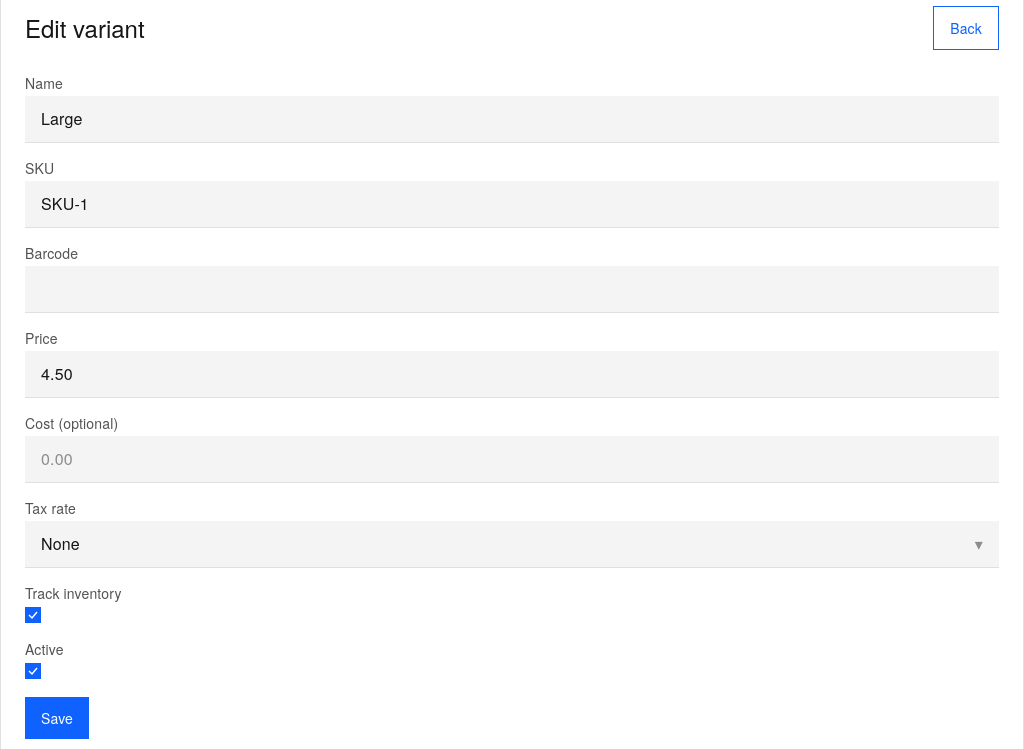
Scenario: VariantEditor › rejects a blank price instead of silently saving as $0
Clear the field labelled "Price" at point(512, 375), box left=25, top=351, right=999, bottom=398
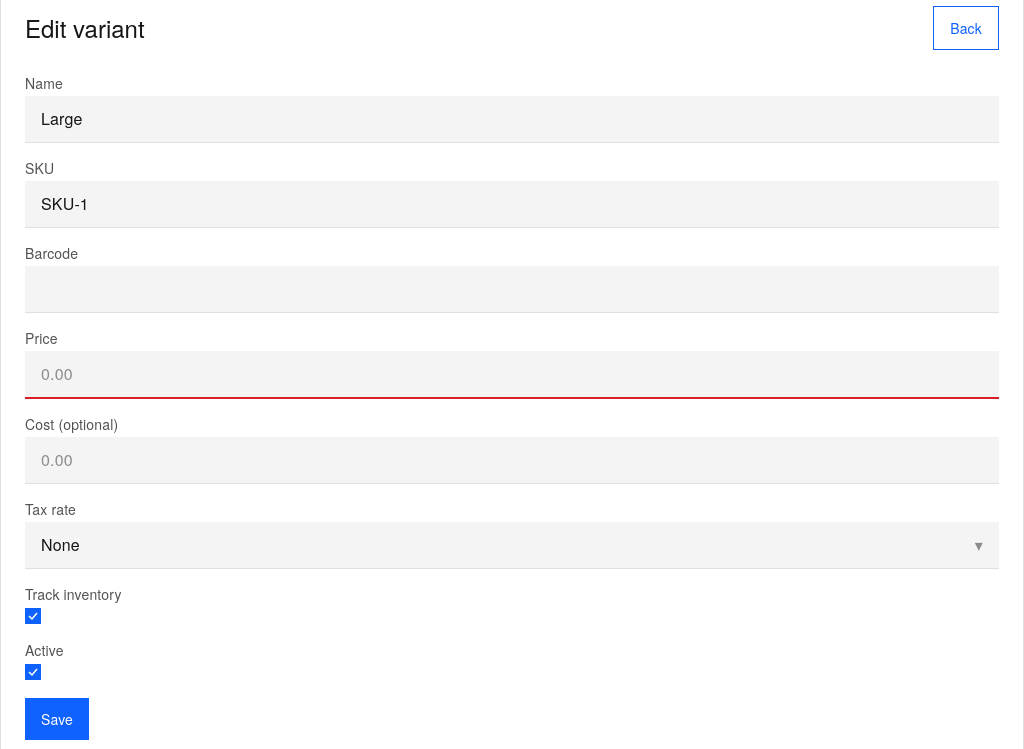
Click the button "Save".
click(57, 718)  # box left=25, top=698, right=89, bottom=740
(page scrolled)
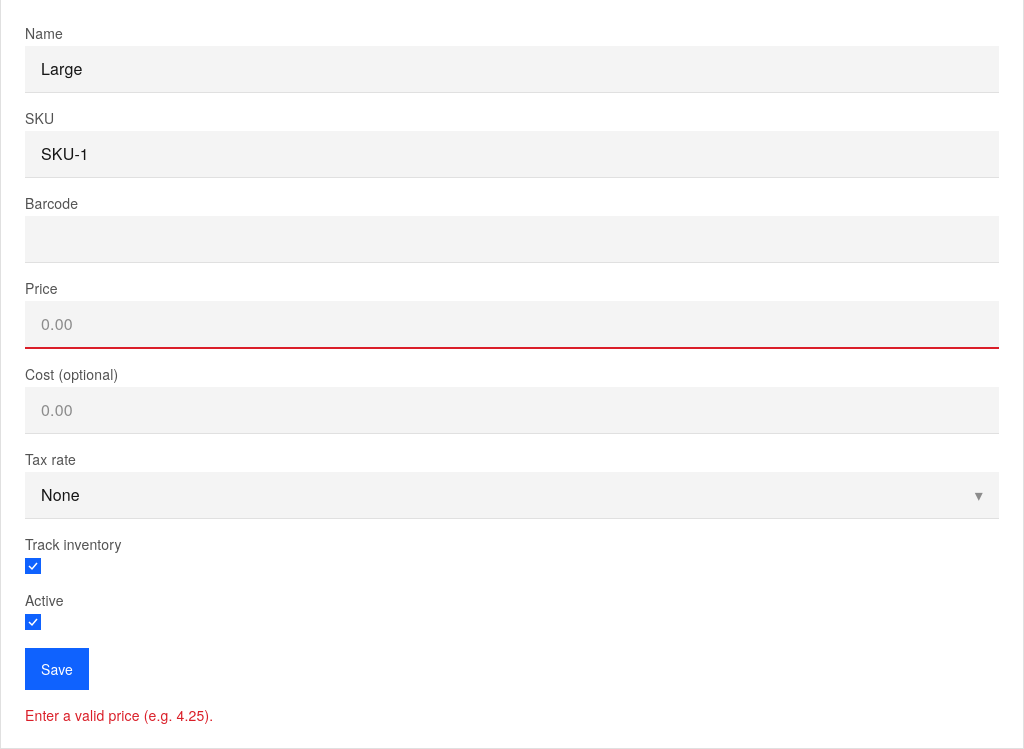
Now the text "Enter a valid price (e.g. 4.25)." is shown, box left=25, top=705, right=213, bottom=725
